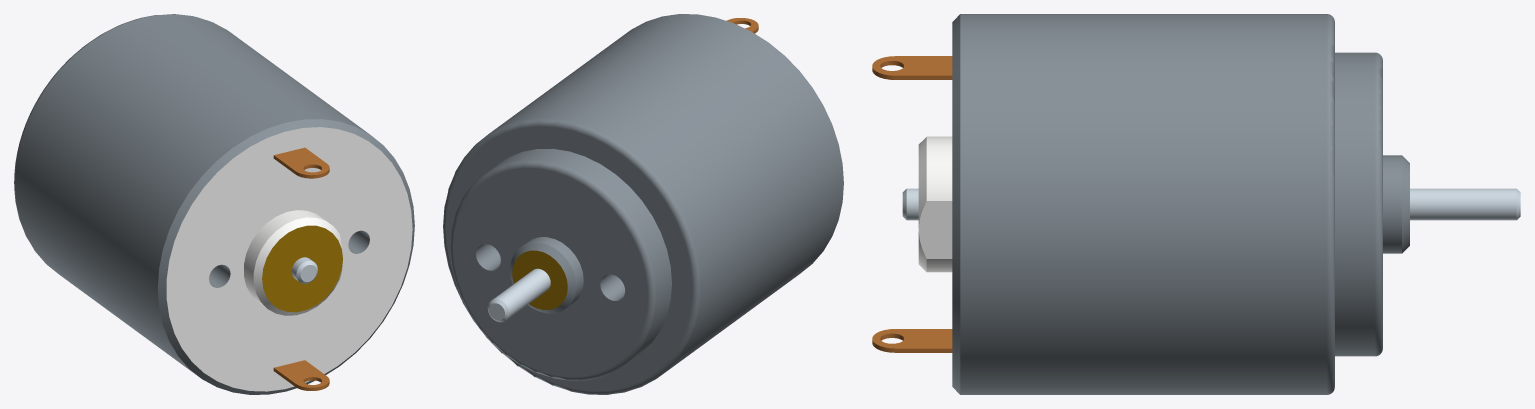
Rendered from motor2.glb.
3 views of the same model, side by side, from view 1: azimuth 30°, elevation 25°; view 2: azimuth 150°, elevation 25°; view 3: azimuth 270°, elevation 25° (orthographic). The views are drawn at different scales.
Visible parts, largest first — view 1: Part 1; view 2: Part 1; view 3: Part 1.
Part boxes in pixels (x1,y1,x2,y2): Part 1: (14, 14, 414, 394); Part 1: (443, 14, 843, 394); Part 1: (872, 14, 1520, 394).
Bounding box in the file's own units: 0.0238 × 0.0238 × 0.0405.
